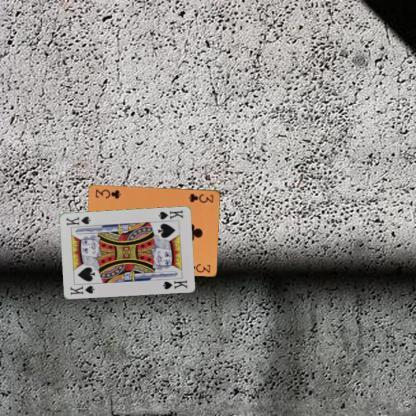3c: (186, 190, 214, 204)
Ks: (68, 283, 96, 297), (156, 208, 184, 221)
